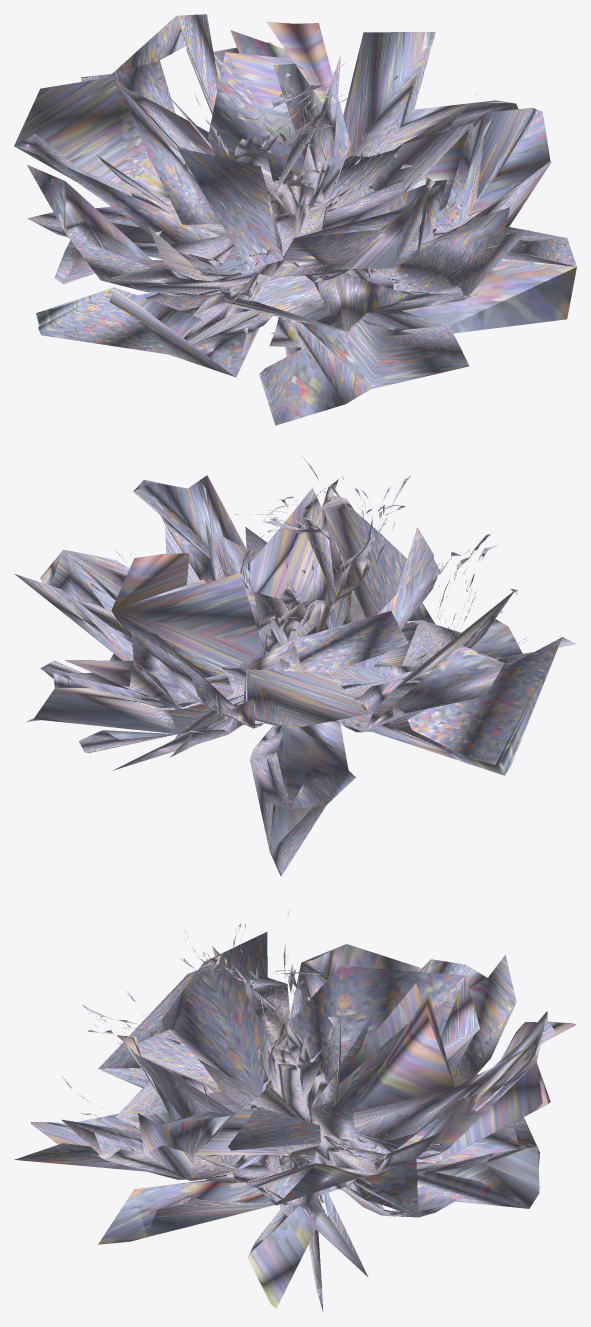
Rendered from Luminous_Paper_Flower.glb.
3 renders of one model, top to bottom at view 1: azimuth 30°, elevation 25°; view 2: azimuth 150°, elevation 25°; view 3: azimuth 270°, elevation 25°, orthographic. The views are drawn at different scales.
Visible parts, largest first — view 1: Luminous_Paper_Flower; view 2: Luminous_Paper_Flower; view 3: Luminous_Paper_Flower.
Boxes of the visible parts, bbox=[...] form: Luminous_Paper_Flower: bbox=[14, 14, 576, 425]; Luminous_Paper_Flower: bbox=[15, 456, 576, 875]; Luminous_Paper_Flower: bbox=[14, 909, 576, 1311].
Bounding box in the file's own units: 1.74 × 1.36 × 1.87.
1 material, 1 textured.
